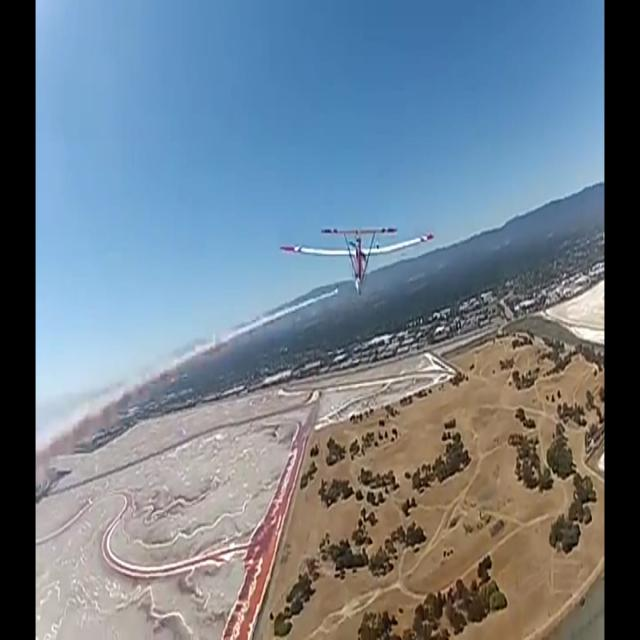iha: (279, 258, 436, 264)
